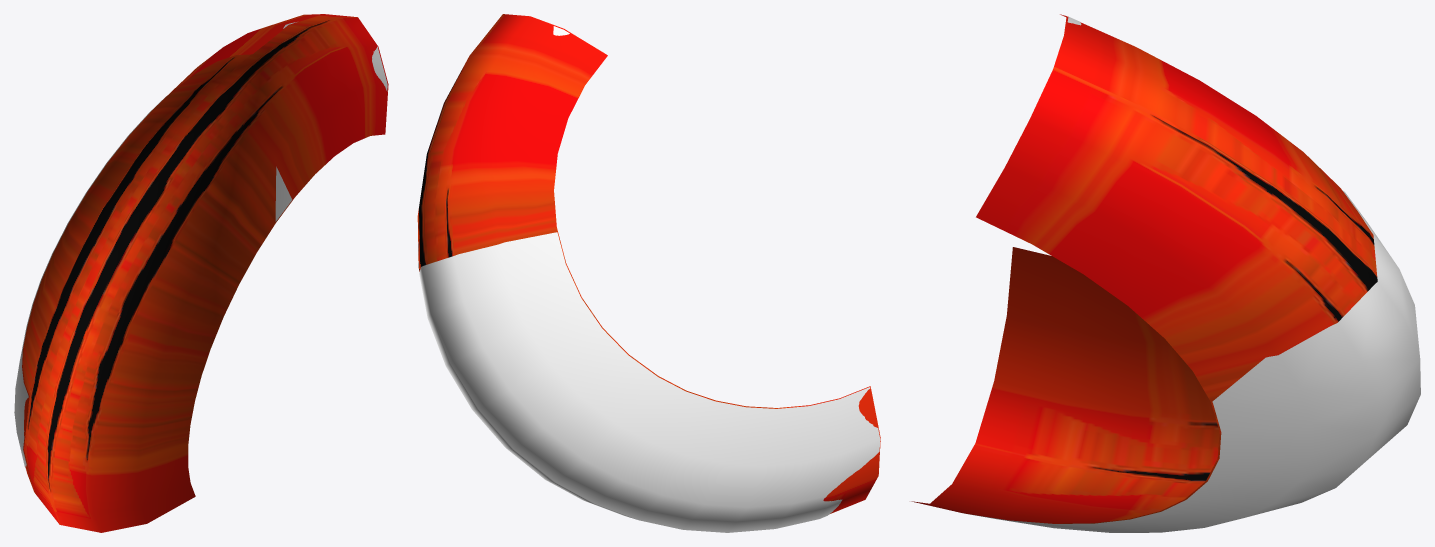
File: fx_m10218_skill01.fbx
The picture shows the model from 3 angles, left to right: view 1: azimuth 30°, elevation 25°; view 2: azimuth 150°, elevation 25°; view 3: azimuth 270°, elevation 25°; orthographic projection. The views are drawn at different scales.
Parts seen in each view (by area): view 1: claw_main, claw_glow; view 2: claw_glow, claw_main; view 3: claw_main, claw_glow.
Boxes of the visible parts, bbox=[...] form: claw_main: bbox=[22, 14, 388, 532]; claw_glow: bbox=[14, 22, 387, 532]; claw_glow: bbox=[419, 26, 880, 532]; claw_main: bbox=[417, 14, 880, 513]; claw_main: bbox=[911, 14, 1377, 523]; claw_glow: bbox=[964, 16, 1420, 532].
Bounding box in the file's own units: 704 × 787 × 568.
Materials: 2 (2 with a texture image).
